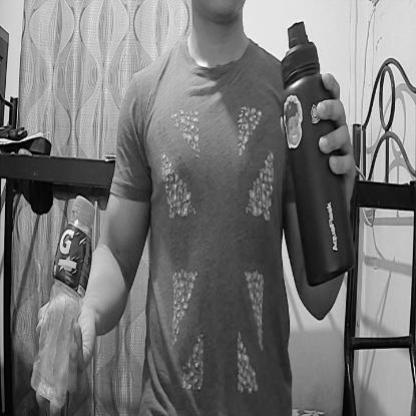Plastic Bottle: (33, 184, 94, 416)
